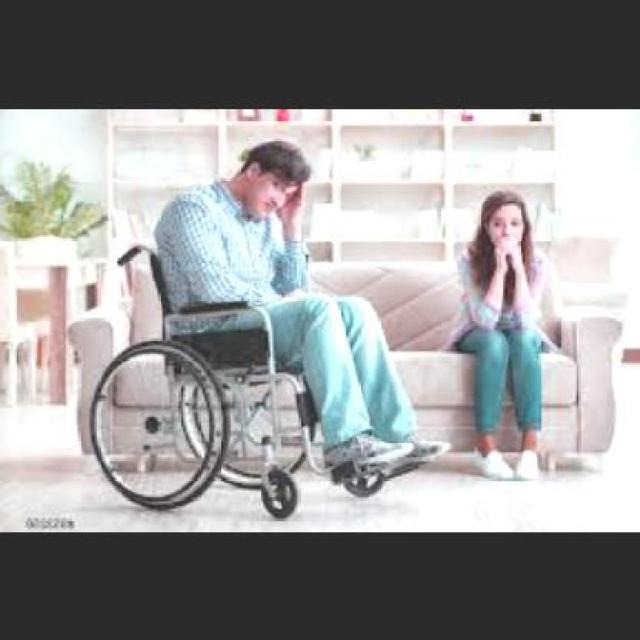wheelchairs: (83, 232, 465, 529)
